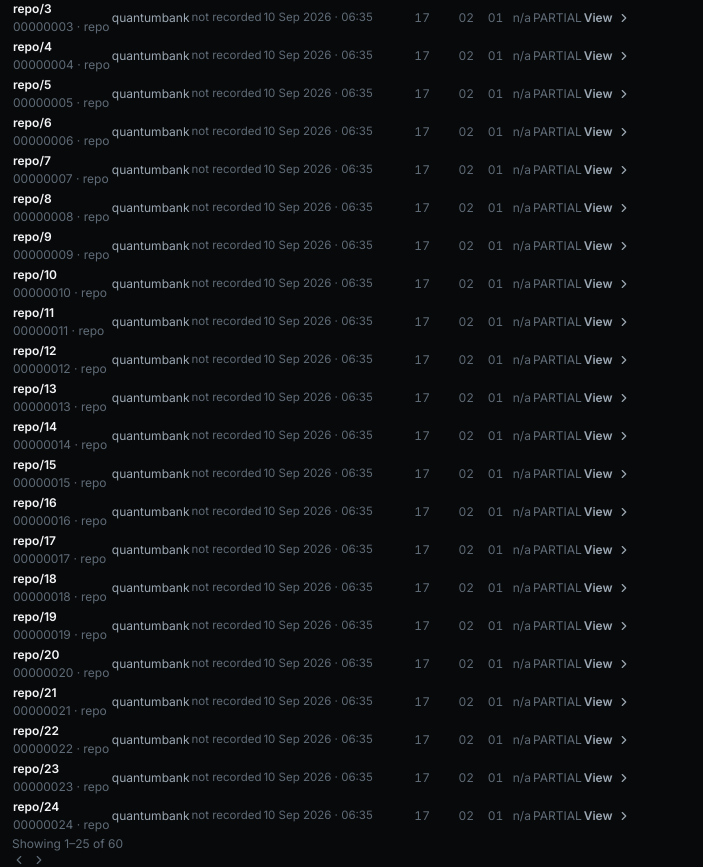
Test case: Scan History -- one page at a time › Next asks the SERVER for the next page; Previous goes back; the last page is short
The width and height of the screenshot is (703, 867).
(page scrolled)
Expected: the button named "previous page" is disabled, x1=12 y1=853 x2=26 y2=866
Click the button named "next page" at point(39, 860), box x1=32 y1=853 x2=46 y2=866
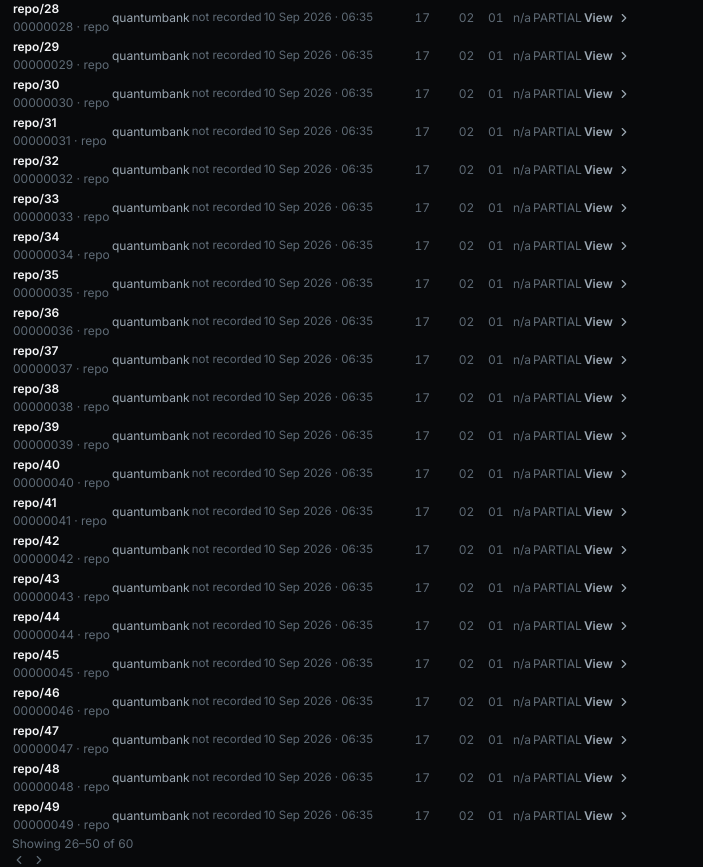
Result: the text "Showing 26–50 of 60" is shown at x1=12 y1=836 x2=133 y2=851
Click the button named "next page" at point(39, 860), box x1=32 y1=853 x2=46 y2=866
(page scrolled)
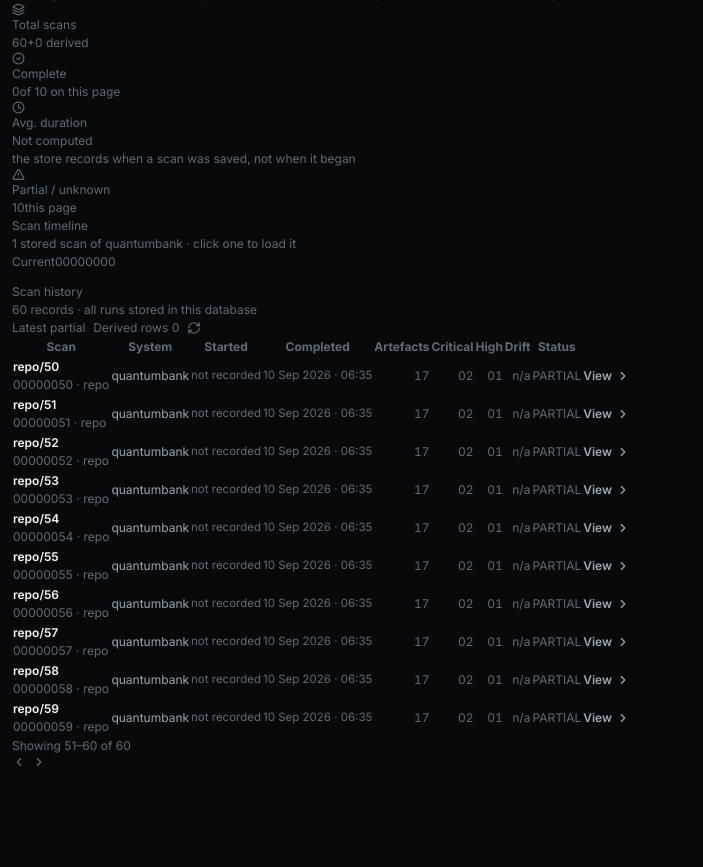
Result: the text "Showing 51–60 of 60" is shown at x1=12 y1=738 x2=131 y2=753
Result: the number of rows with test id "scan-row" is 10
Result: the button named "next page" is disabled at x1=32 y1=755 x2=46 y2=769
Click the button named "previous page" at point(19, 762), box x1=12 y1=755 x2=26 y2=769
(page scrolled)
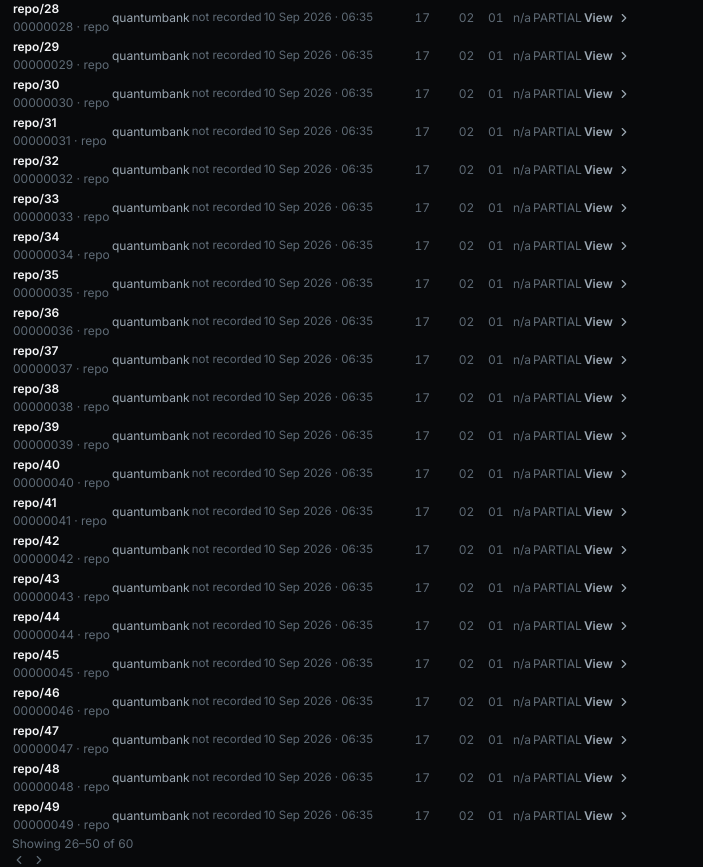
Result: the text "Showing 26–50 of 60" is shown at x1=12 y1=836 x2=133 y2=851
